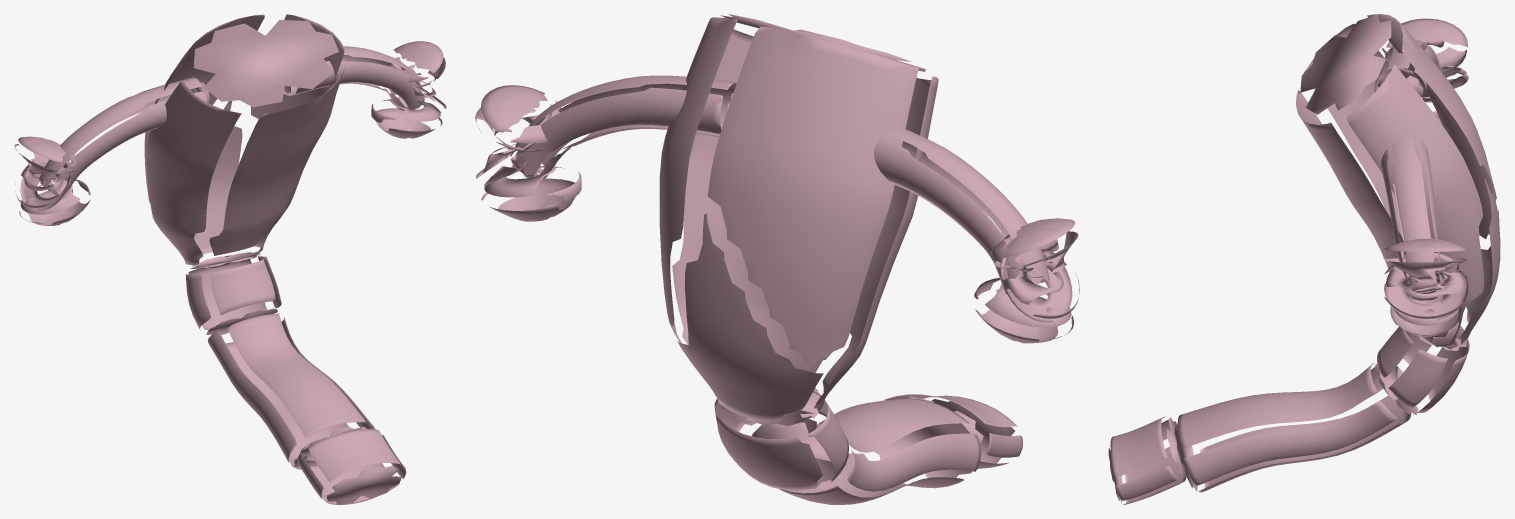
Rendered from reproductive-female.glb.
3 renders of one model, left to right at view 1: azimuth 30°, elevation 25°; view 2: azimuth 150°, elevation 25°; view 3: azimuth 270°, elevation 25°, orthographic. The views are drawn at different scales.
Visible parts, largest first — view 1: reproductive-female-0, reproductive-female-2, reproductive-female-7, reproductive-female-3, reproductive-female-1, reproductive-female-4, reproductive-female-6, reproductive-female-5; view 2: reproductive-female-0, reproductive-female-2, reproductive-female-5, reproductive-female-3, reproductive-female-4, reproductive-female-6, reproductive-female-1, reproductive-female-7; view 3: reproductive-female-0, reproductive-female-2, reproductive-female-6, reproductive-female-5, reproductive-female-1, reproductive-female-7, reproductive-female-4, reproductive-female-3.
Part boxes in pixels (left/top/right/bottom): reproductive-female-0: left=144, top=14, right=345, bottom=269; reproductive-female-2: left=207, top=309, right=375, bottom=469; reproductive-female-7: left=297, top=428, right=406, bottom=504; reproductive-female-3: left=39, top=77, right=209, bottom=194; reproductive-female-1: left=185, top=252, right=281, bottom=334; reproductive-female-4: left=14, top=136, right=90, bottom=225; reproductive-female-6: left=371, top=41, right=446, bottom=138; reproductive-female-5: left=283, top=46, right=424, bottom=110; reproductive-female-0: left=659, top=14, right=938, bottom=426; reproductive-female-2: left=752, top=398, right=981, bottom=504; reproductive-female-5: left=510, top=75, right=736, bottom=179; reproductive-female-3: left=874, top=129, right=1049, bottom=294; reproductive-female-4: left=974, top=218, right=1079, bottom=343; reproductive-female-6: left=475, top=85, right=581, bottom=221; reproductive-female-1: left=714, top=389, right=848, bottom=490; reproductive-female-7: left=884, top=394, right=1022, bottom=468; reproductive-female-0: left=1296, top=14, right=1500, bottom=349; reproductive-female-2: left=1174, top=362, right=1411, bottom=492; reproductive-female-6: left=1382, top=238, right=1468, bottom=336; reproductive-female-5: left=1381, top=137, right=1444, bottom=294; reproductive-female-1: left=1374, top=325, right=1469, bottom=415; reproductive-female-7: left=1108, top=416, right=1186, bottom=504; reproductive-female-4: left=1382, top=18, right=1468, bottom=123; reproductive-female-3: left=1374, top=39, right=1441, bottom=101.
Bounding box in the file's own units: 0.1259 × 0.1142 × 0.0884.
